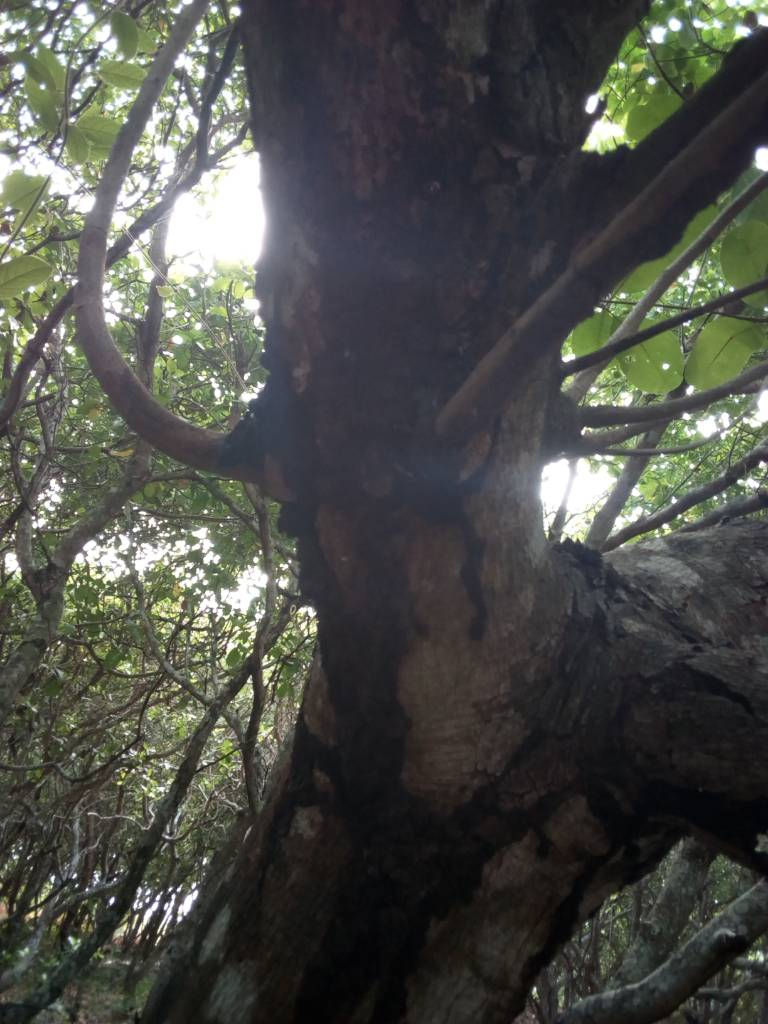Termites: (297, 69, 472, 510), (324, 810, 530, 1002), (290, 516, 418, 794)
